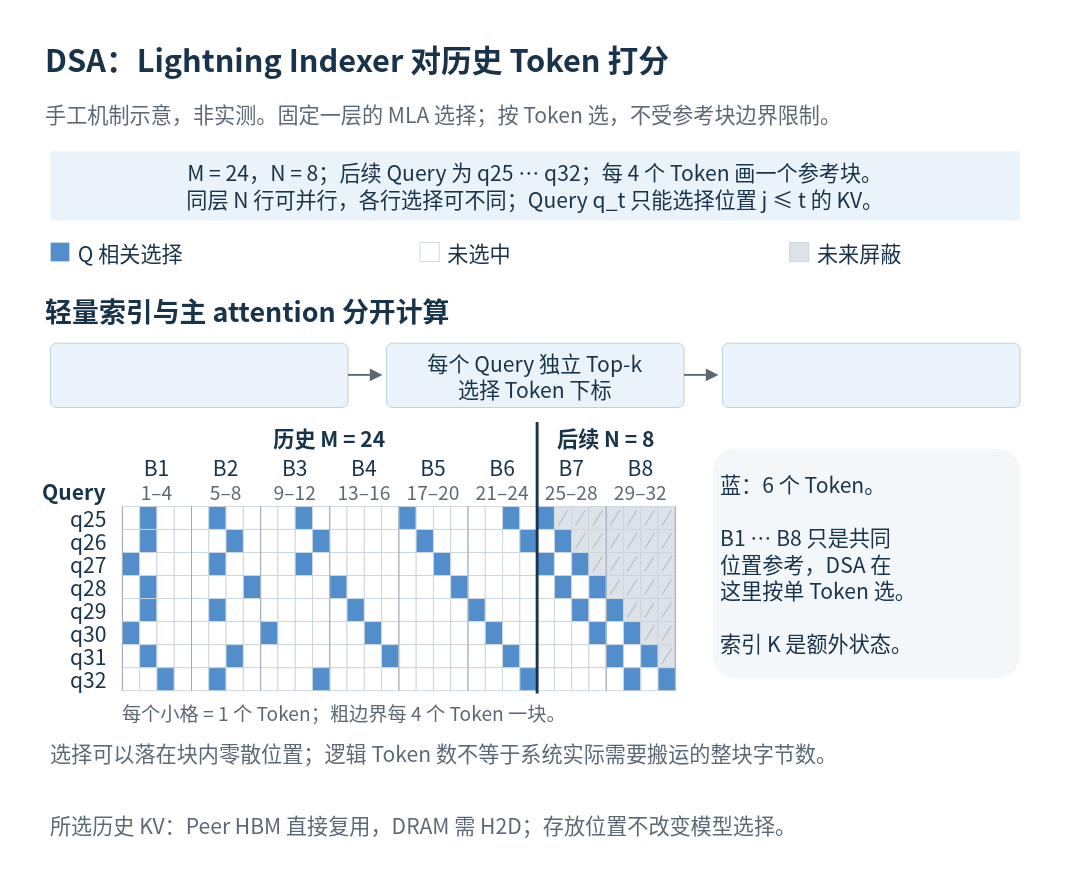
Image size: 1069x877. Some labels were removed from this diagram. Each missing label, with the box of its shape:
Q 的索引表示 匹配历史索引 K: (49, 342, 348, 408)
获取对应 MLA KV 执行主 attention: (721, 342, 1020, 408)
